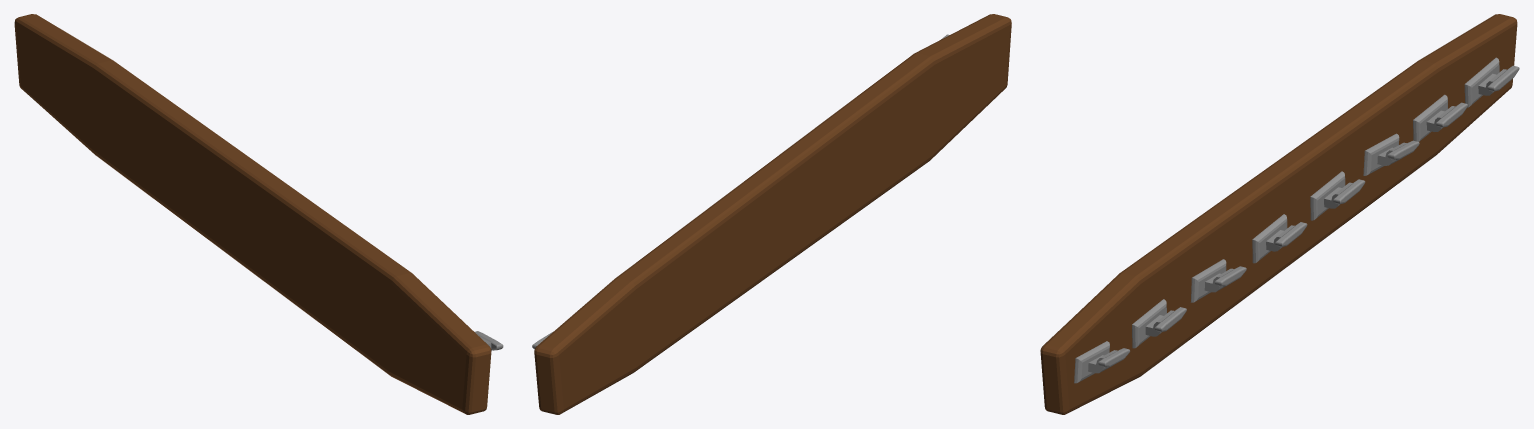
File: Sm_CoatRack.fbx
3 renders of one model, left to right at view 1: azimuth 30°, elevation 25°; view 2: azimuth 150°, elevation 25°; view 3: azimuth 330°, elevation 25°, orthographic.
Parts seen in each view (by area): view 1: SM_CoatRack; view 2: SM_CoatRack; view 3: SM_CoatRack.
Boxes of the visible parts, left/top/right/bottom form: SM_CoatRack: left=14, top=14, right=503, bottom=414; SM_CoatRack: left=532, top=14, right=1011, bottom=414; SM_CoatRack: left=1040, top=14, right=1519, bottom=414.
Size of the model in its own units: 6.26 by 12.26 by 99.5.
